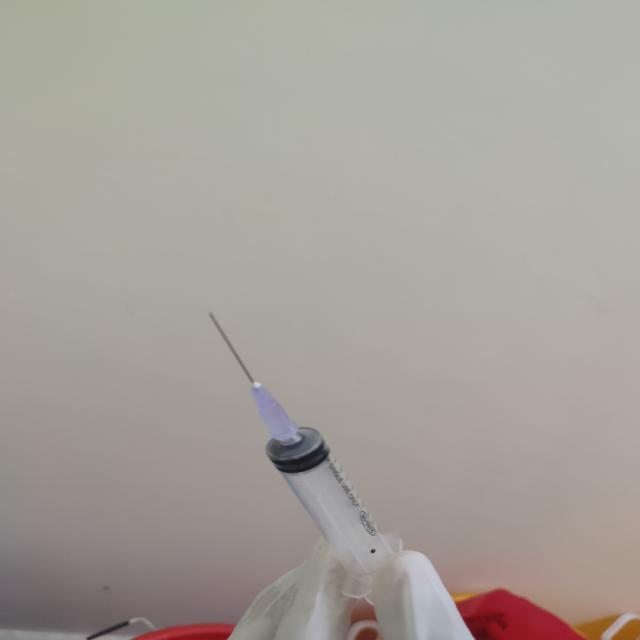B3: (191, 304, 448, 602), (208, 312, 322, 448)
